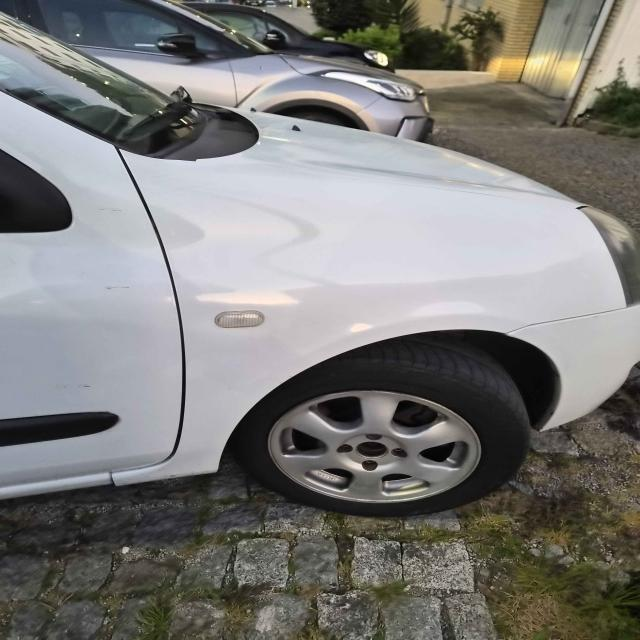jante: (267, 389, 482, 504)
parafuso: (366, 433, 382, 440), (392, 448, 406, 456), (364, 458, 375, 466), (340, 444, 350, 452)
roda: (228, 334, 530, 518)
